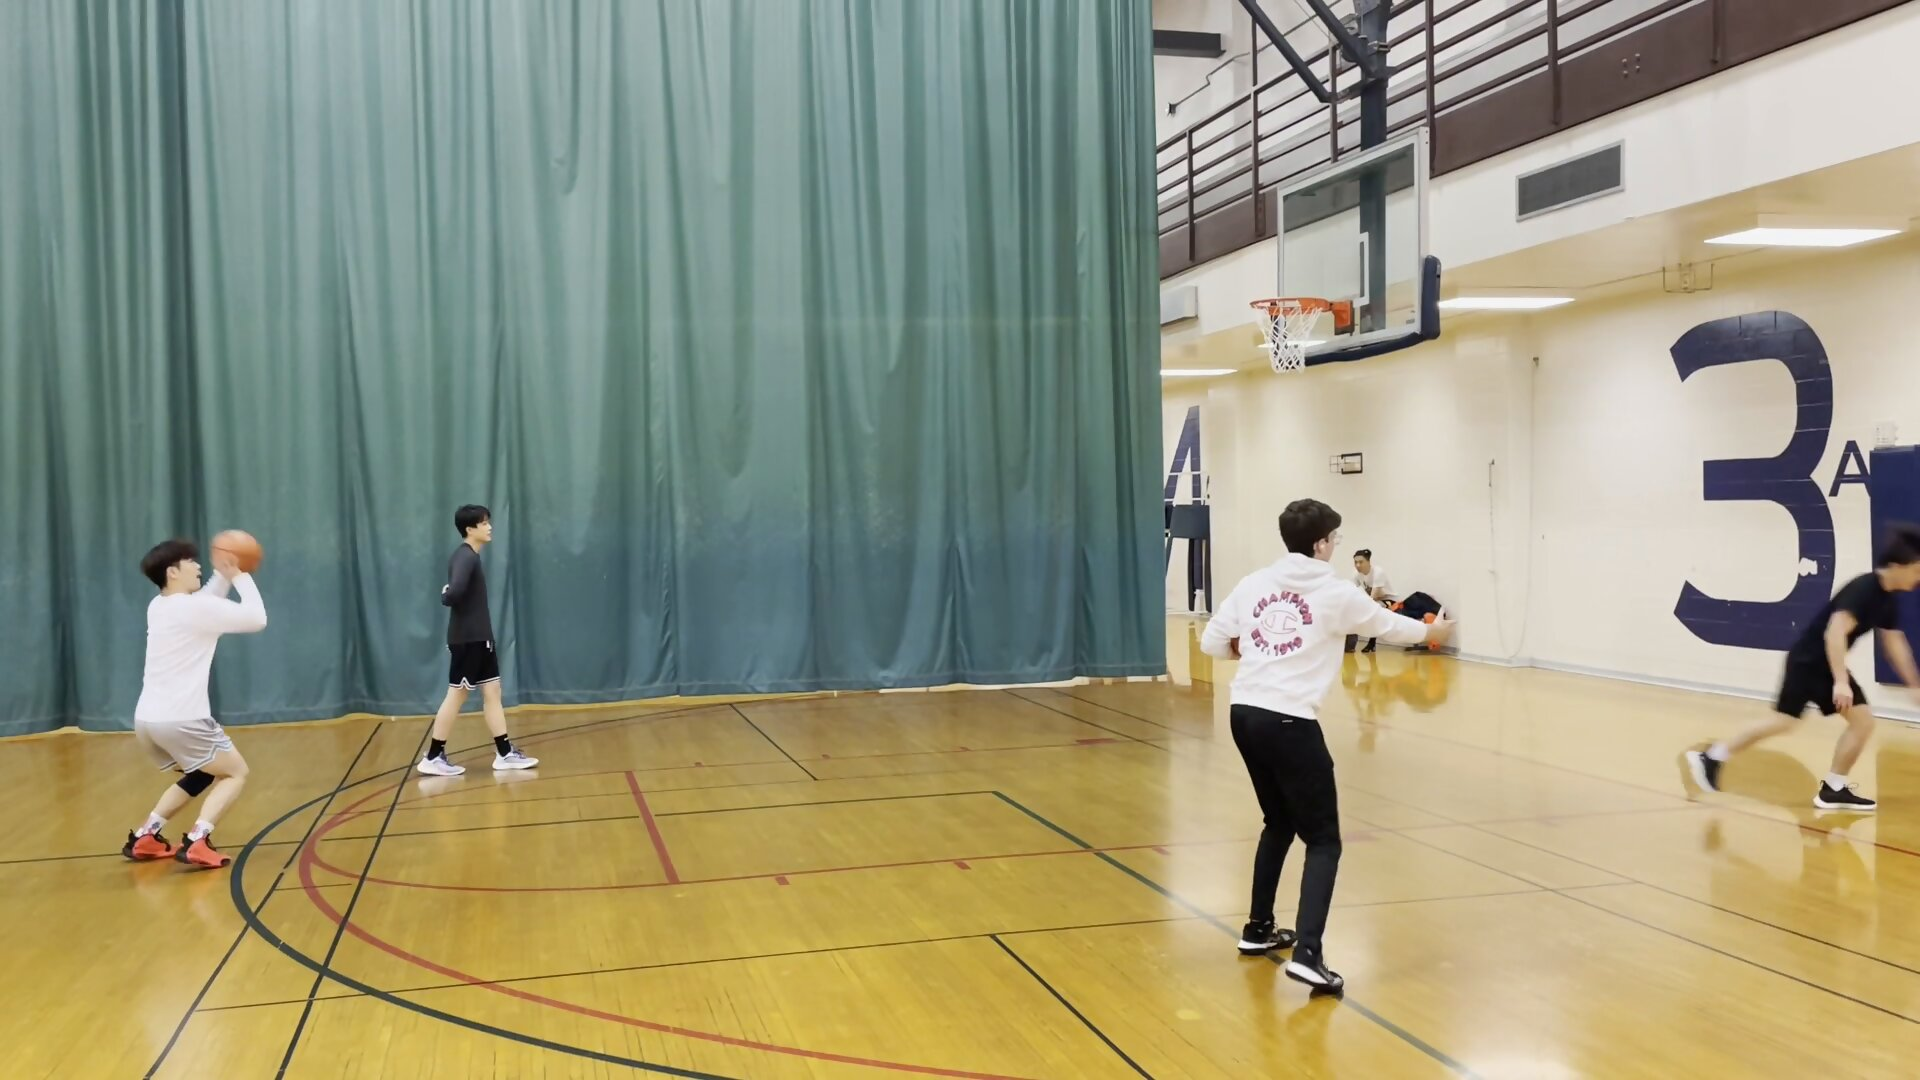ball: (207, 527, 267, 577)
net: (1255, 344, 1319, 381)
player: (1197, 496, 1448, 991), (1688, 544, 1915, 819), (126, 535, 272, 888), (416, 501, 545, 779), (1343, 546, 1402, 612)
rim: (1246, 292, 1331, 319)
